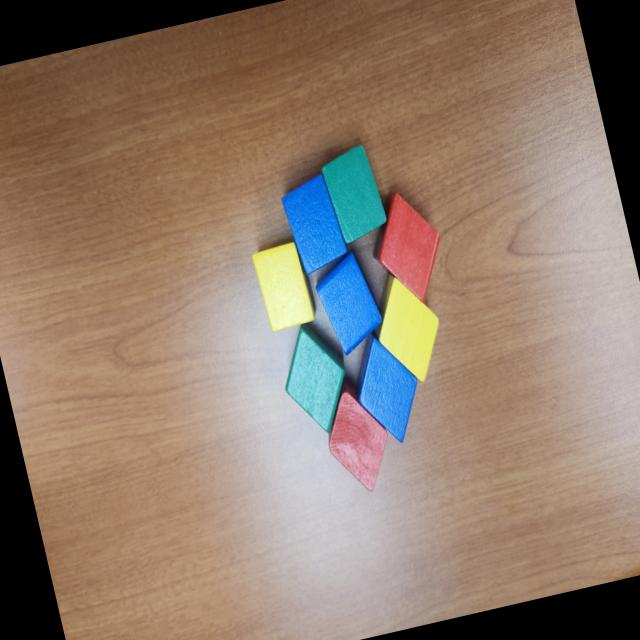blue: (340, 326, 430, 451), (308, 244, 389, 359), (276, 170, 351, 280)
green: (270, 318, 358, 444), (316, 140, 392, 248)
red: (362, 182, 454, 314), (314, 374, 398, 498)
yellow: (364, 266, 452, 389), (250, 238, 320, 334)
